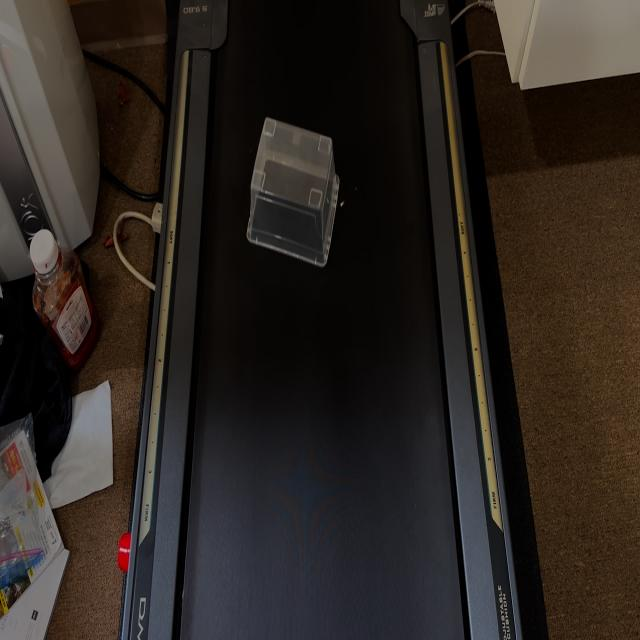Recycle: (246, 113, 341, 270)
